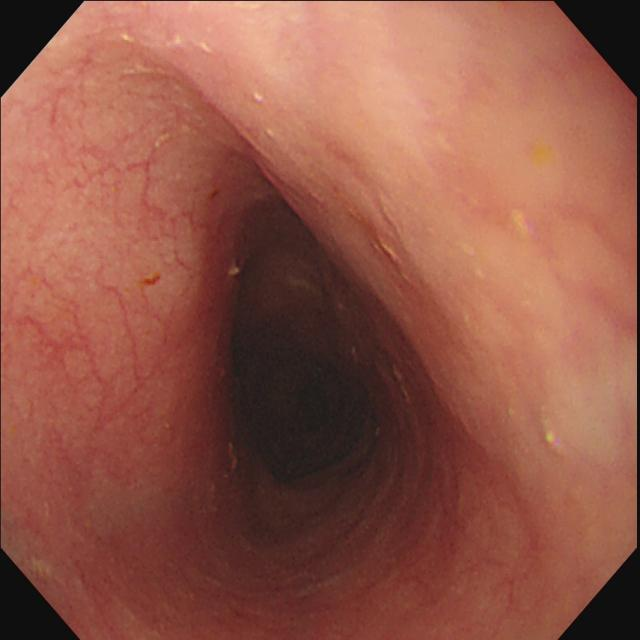E: (240, 327, 359, 472)
J: (26, 557, 68, 590), (227, 444, 238, 476), (227, 265, 241, 279)
